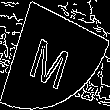M_N: (31, 23, 79, 87)
